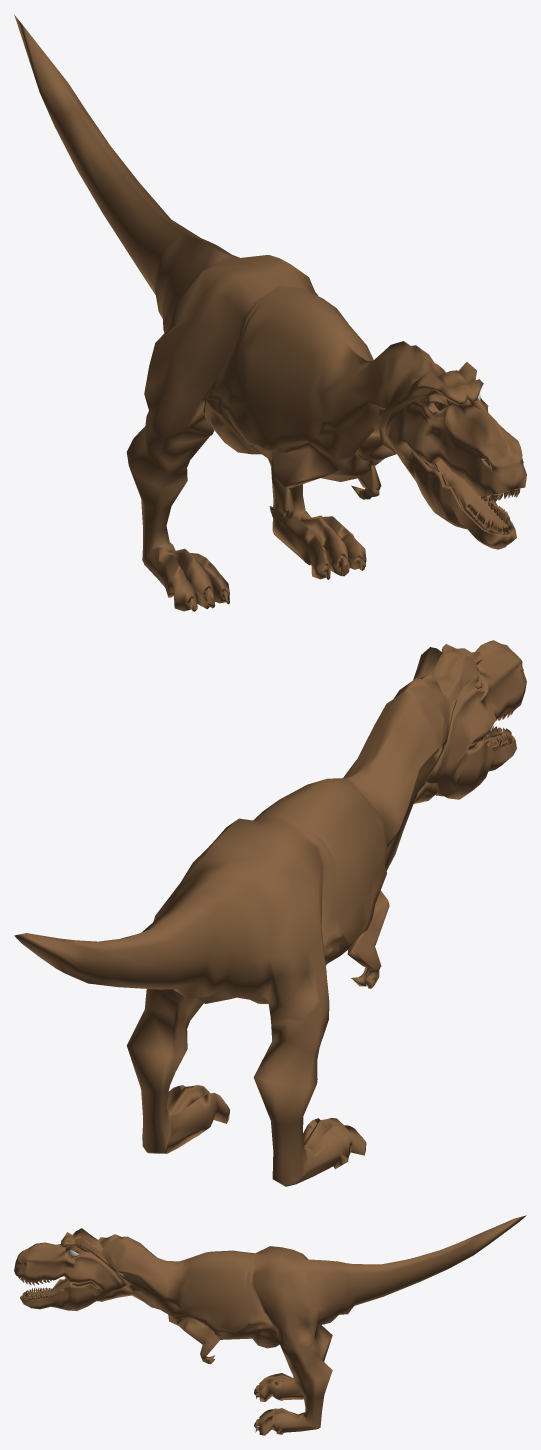
The model's file is trex.glb.
The picture shows the model from 3 angles, top to bottom: view 1: azimuth 30°, elevation 25°; view 2: azimuth 150°, elevation 25°; view 3: azimuth 270°, elevation 25°; orthographic projection. The views are drawn at different scales.
Visible parts, largest first — view 1: T-Rex_Body; view 2: T-Rex_Body; view 3: T-Rex_Body.
Boxes of the visible parts, bbox=[...] form: T-Rex_Body: bbox=[14, 14, 526, 611]; T-Rex_Body: bbox=[14, 640, 526, 1186]; T-Rex_Body: bbox=[14, 1215, 526, 1435].
Size of the model in its own units: 3.29 by 6.44 by 14.98.
